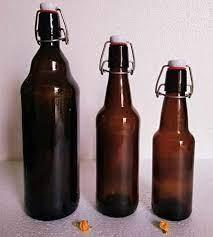glass: (19, 2, 83, 224), (94, 36, 142, 216), (151, 59, 197, 221)
